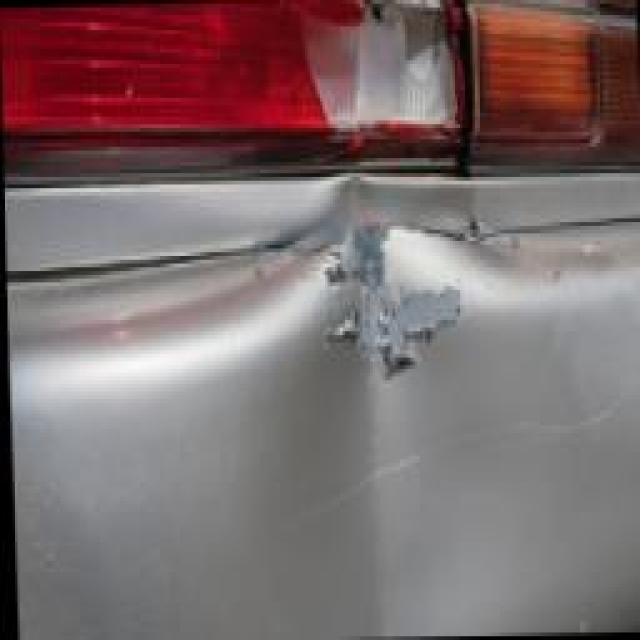Bumper: (218, 166, 630, 538)
Light: (278, 0, 523, 166)
